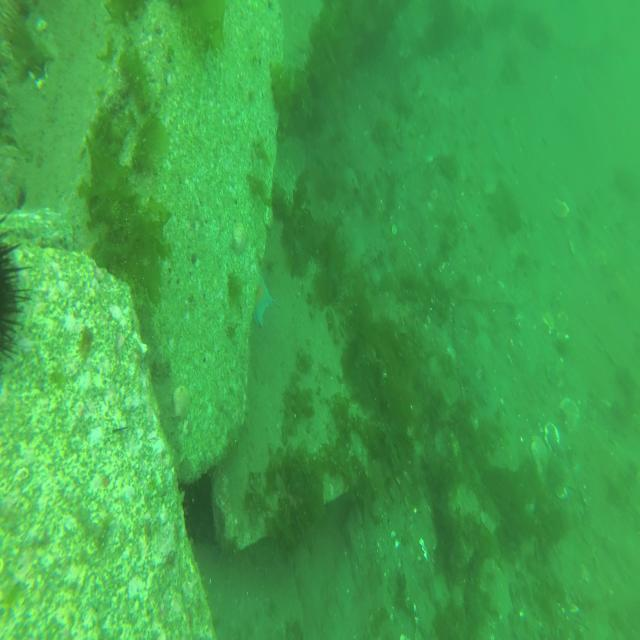echinus: (1, 227, 31, 368)
holothurian: (358, 235, 391, 270), (387, 299, 416, 327)
starfish: (251, 269, 276, 330)
